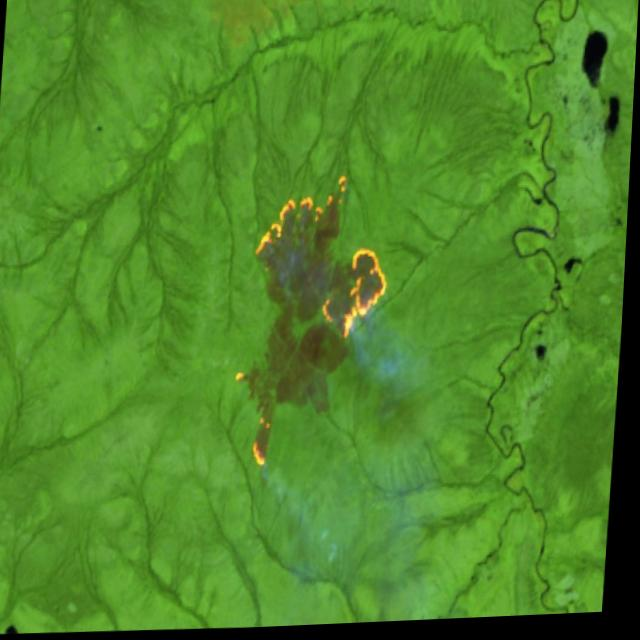fire: (231, 165, 400, 474)
